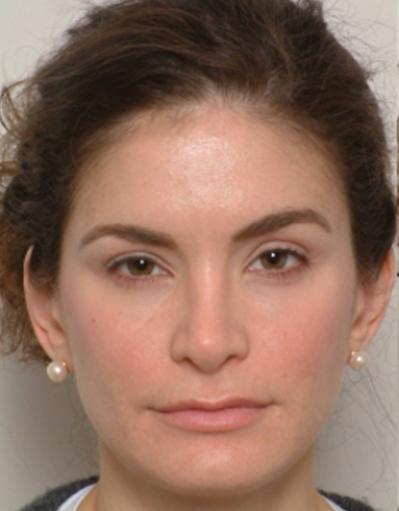left_eye: (246, 247, 311, 281)
left_lip_corner: (261, 393, 284, 415)
right_eye: (108, 257, 174, 287)
right_lip_corner: (140, 400, 164, 421)
